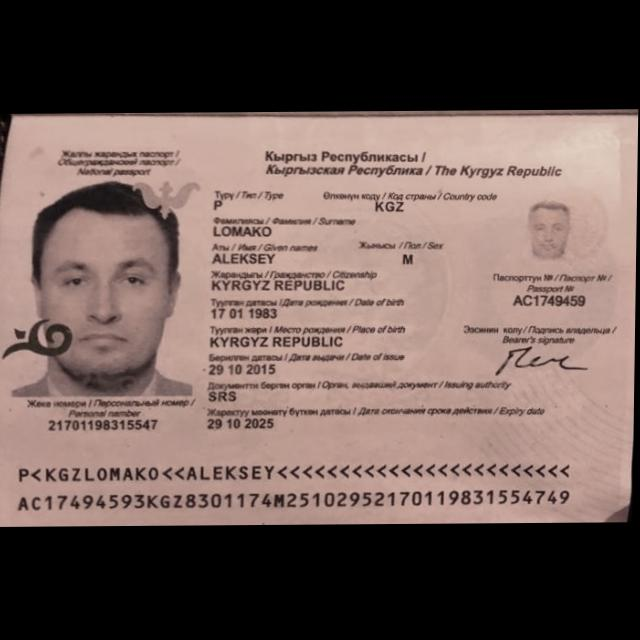passport: (0, 110, 639, 526)
